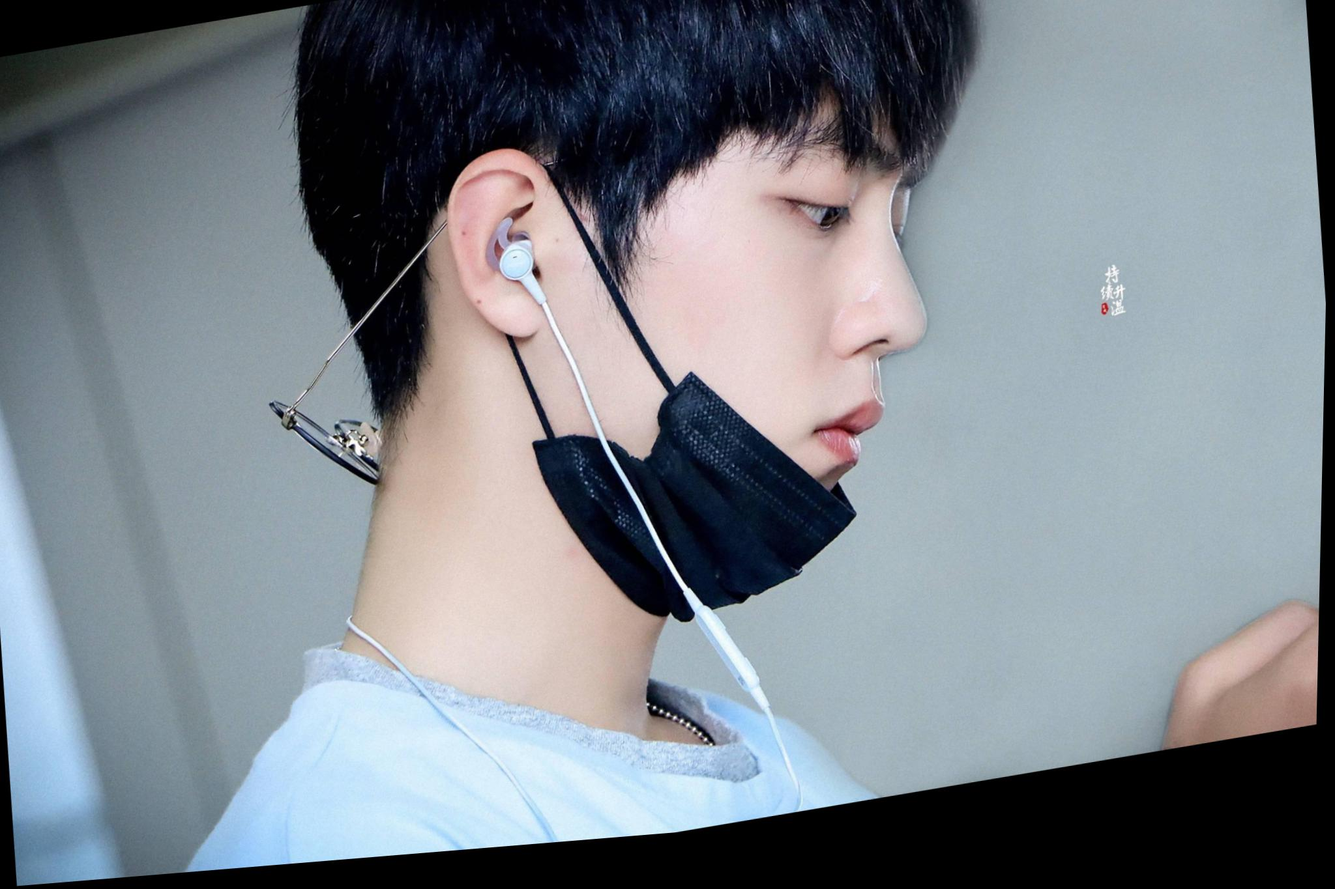WRONG: (576, 27, 970, 624)
